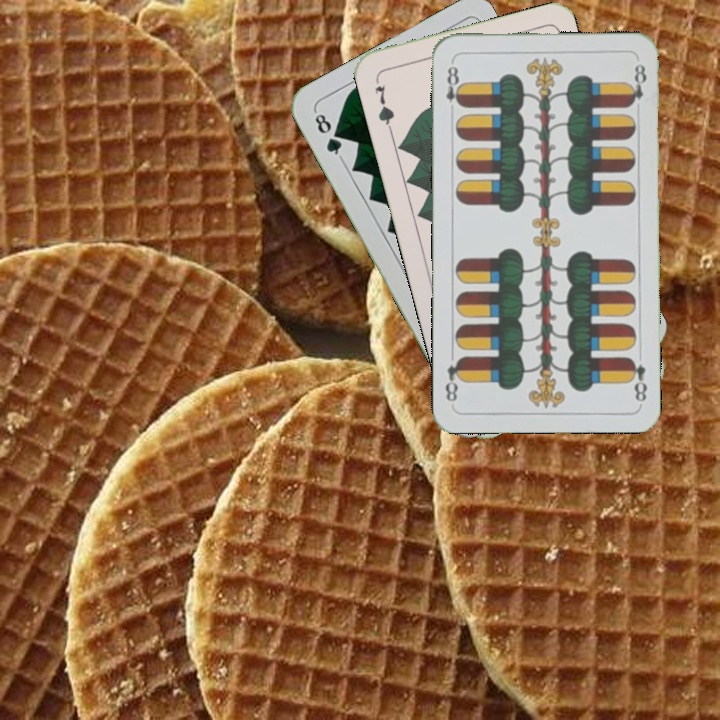E8: (442, 58, 465, 117), (625, 353, 649, 404)
G7: (370, 74, 397, 133)
G8: (310, 107, 345, 161)
